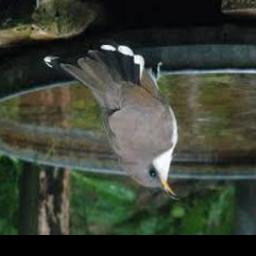Cuckoo: (44, 45, 183, 201)
